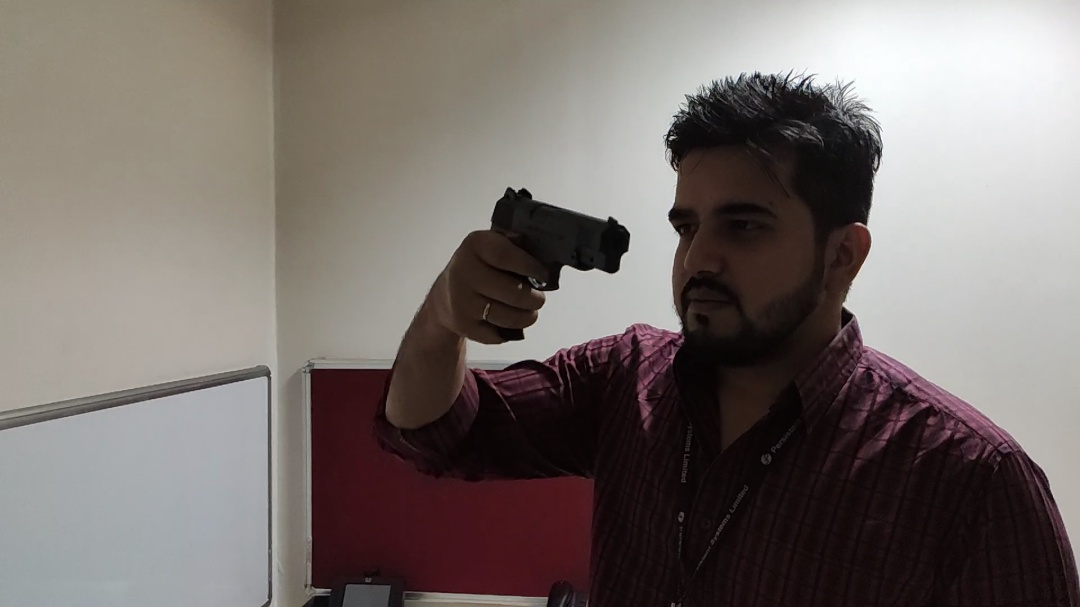gun: (479, 184, 633, 347)
